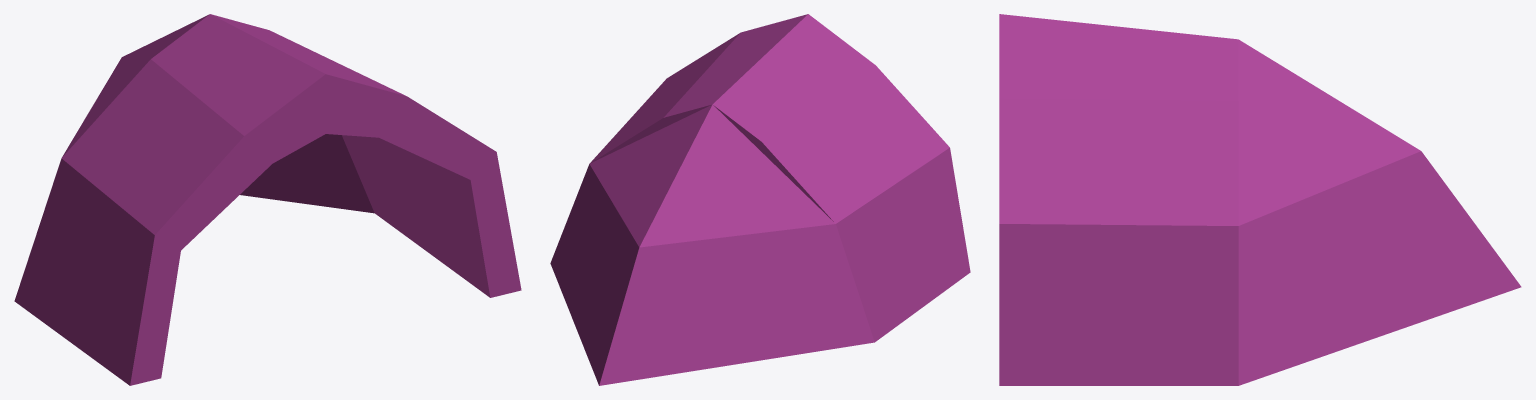
The model's file is SM_Bld_Tent_Small_04_Collision.fbx.
The picture shows the model from 3 angles, left to right: view 1: azimuth 30°, elevation 25°; view 2: azimuth 150°, elevation 25°; view 3: azimuth 270°, elevation 25°; orthographic projection. The views are drawn at different scales.
Parts seen in each view (by area): view 1: SM_Bld_Tent_Small_04_Collision; view 2: SM_Bld_Tent_Small_04_Collision; view 3: SM_Bld_Tent_Small_04_Collision.
Boxes of the visible parts, left/top/right/bottom form: SM_Bld_Tent_Small_04_Collision: left=14, top=14, right=521, bottom=385; SM_Bld_Tent_Small_04_Collision: left=550, top=14, right=970, bottom=385; SM_Bld_Tent_Small_04_Collision: left=999, top=14, right=1521, bottom=385.
Size of the model in its own units: 455 by 293 by 508.
